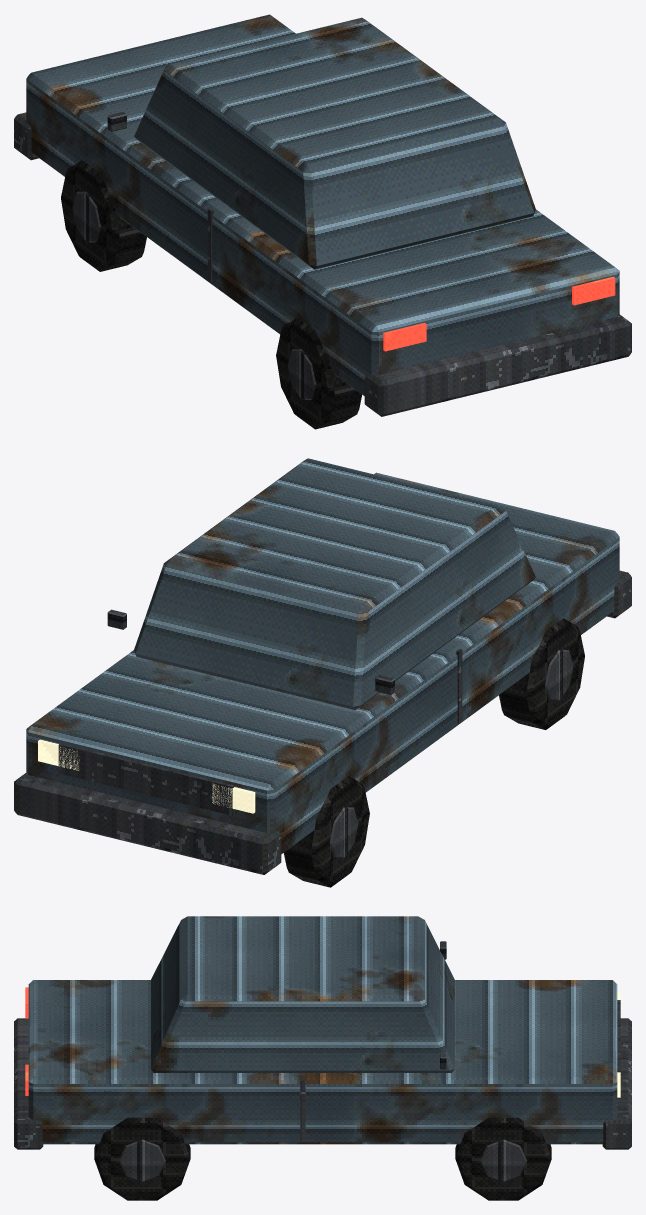
File: vehicle_sedan.glb
3 renders of one model, top to bottom at view 1: azimuth 30°, elevation 25°; view 2: azimuth 150°, elevation 25°; view 3: azimuth 270°, elevation 25°, orthographic. The views are drawn at different scales.
Parts seen in each view (by area): view 1: vehicle_sedan_mesh, Tyre_FL.001, Tyre_RL.001, Hub_FL.001, Hub_RL.001; view 2: vehicle_sedan_mesh, Tyre_FL.001, Tyre_RL.001, Hub_FL.001, Hub_RL.001; view 3: vehicle_sedan_mesh, Tyre_FR.001, Tyre_RR.001, Hub_FR.001, Hub_RR.001.
Part boxes in pixels (x1,y1,x2,y2): vehicle_sedan_mesh: (14, 14, 631, 416); Tyre_FL.001: (61, 160, 146, 271); Tyre_RL.001: (276, 317, 361, 429); Hub_FL.001: (72, 191, 100, 242); Hub_RL.001: (287, 349, 316, 399); vehicle_sedan_mesh: (14, 458, 631, 874); Tyre_FL.001: (284, 776, 369, 887); Tyre_RL.001: (499, 618, 584, 729); Hub_FL.001: (329, 807, 358, 858); Hub_RL.001: (545, 649, 573, 700); vehicle_sedan_mesh: (14, 916, 631, 1149); Tyre_FR.001: (455, 1117, 551, 1200); Tyre_RR.001: (94, 1117, 190, 1200); Hub_FR.001: (480, 1139, 526, 1182); Hub_RR.001: (119, 1139, 165, 1182).
Bounding box in the file's own units: 2.06 × 1.6 × 4.62.
6 materials, 6 textured.
